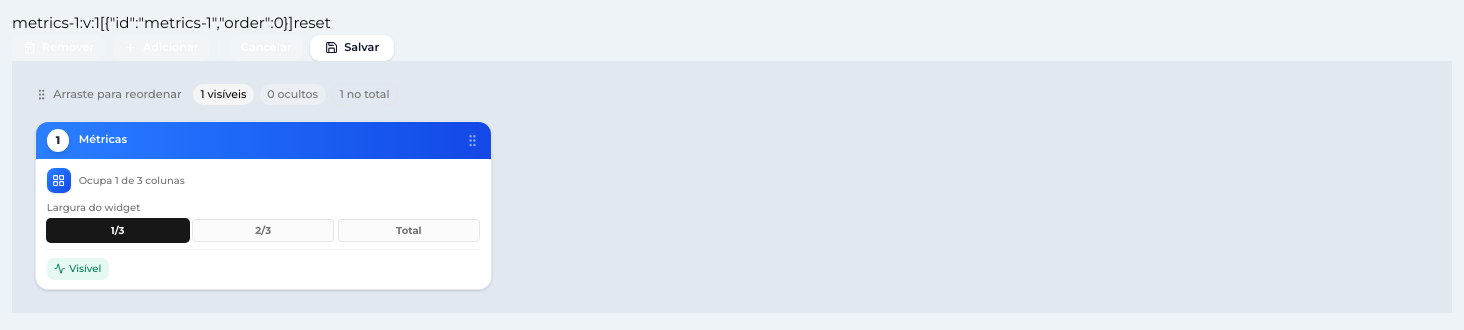
it: Item 4 — larguras continuam selecionáveis e identificáveis › as três larguras têm rótulo, aria-pressed e mudam o colSpan; a selecionada tem destaque não só de cor
Check: the button named "largura: um terço da linha" reads "1/3", box [47,219,189,242]
Check: the button with aria-label "largura: a linha inteira" reads "Total", box [338,219,480,242]
Click the button named "largura: dois terços da linha": (263, 230) [192,219,334,242]
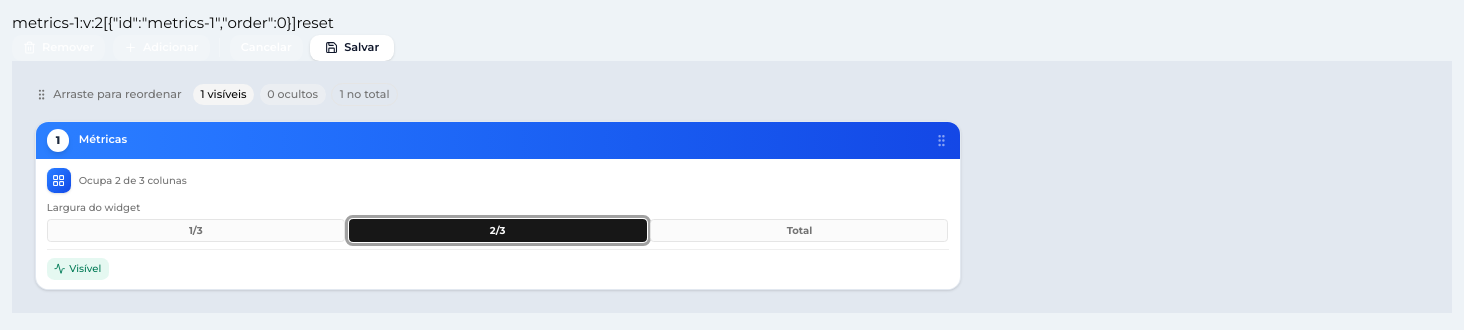
Check: the text with test id "ids" reads "metrics-1:v:2", box [12,13,103,32]
Click the button with aria-label "largura: a linha inteira": (799, 230) [650,219,948,242]
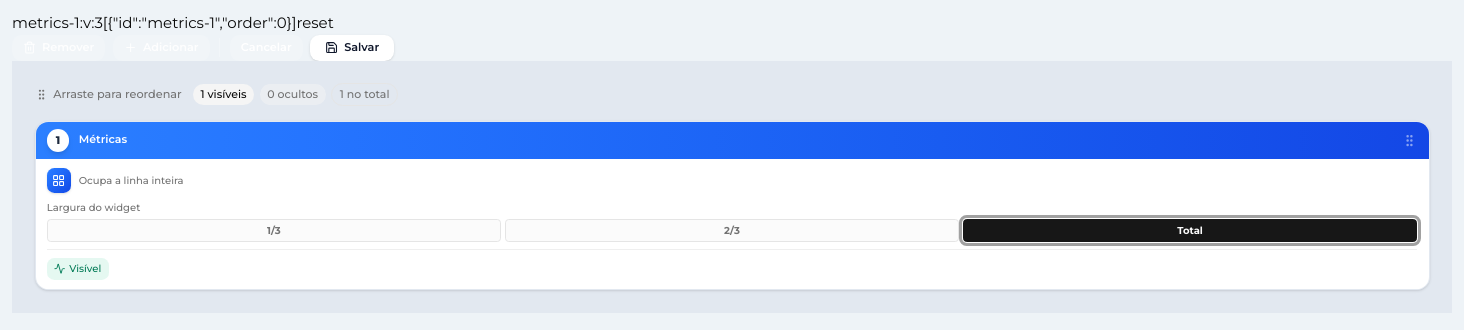
Check: the text with test id "ids" reads "metrics-1:v:3", box [12,13,103,32]
Check: the text "Ocupa a linha inteira" is shown, box [79,174,184,188]
